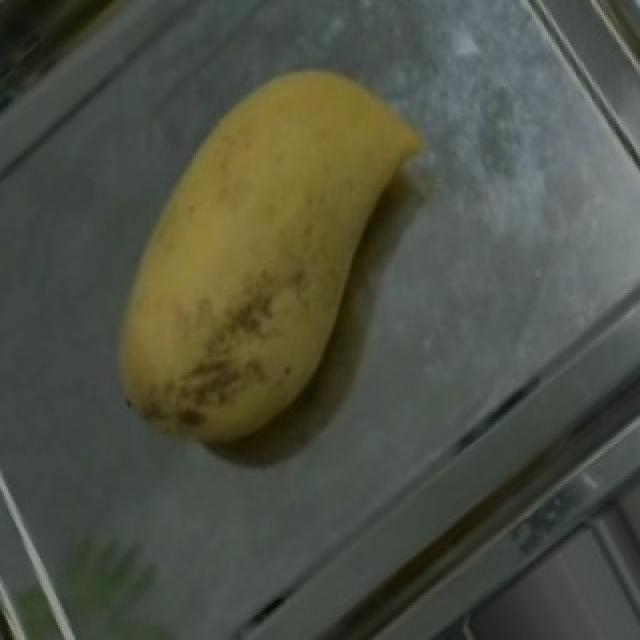fruit: (112, 10, 480, 389)
